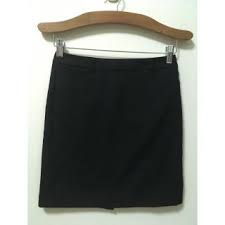F_tailored skirt: (30, 46, 192, 215)
